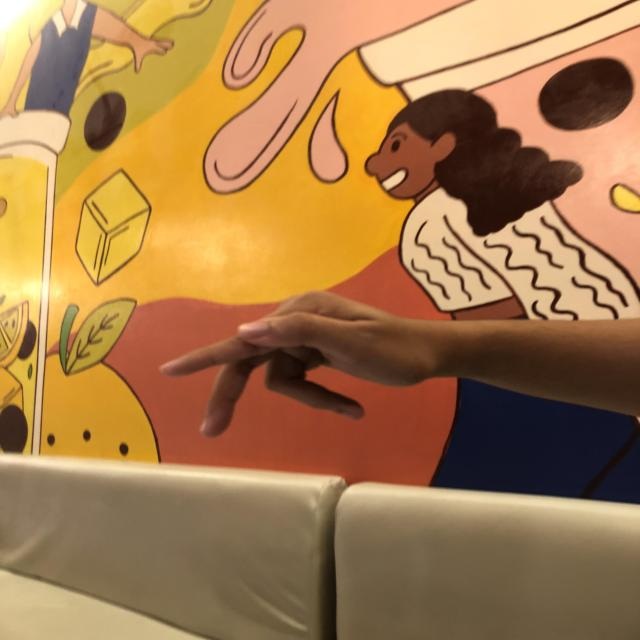P: (156, 288, 446, 439)
